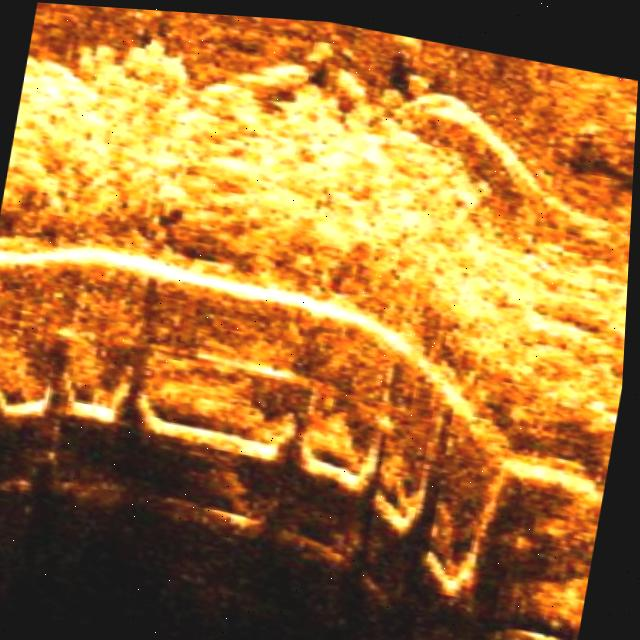bedrock group: (0, 3, 640, 429)
